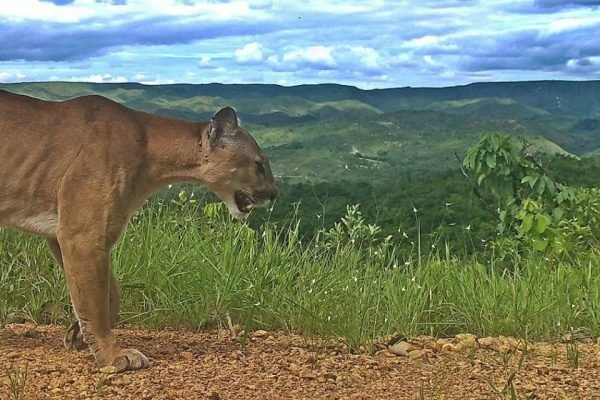OncaParda: (2, 81, 282, 378)
